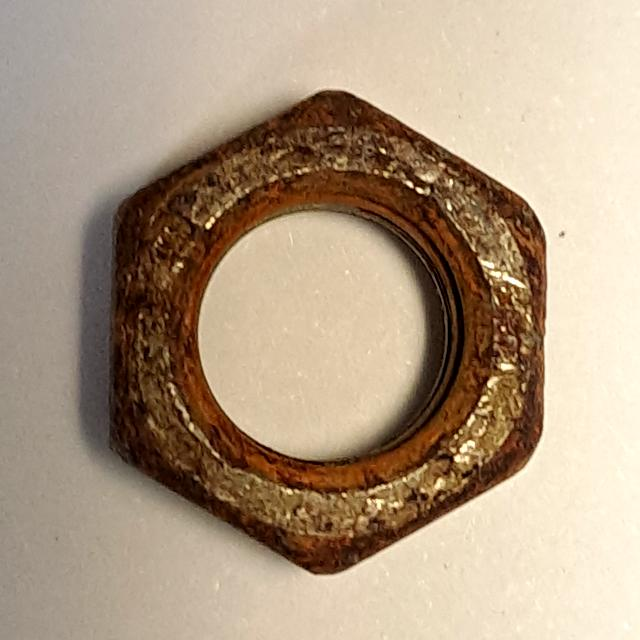Rust: (89, 72, 558, 589)
